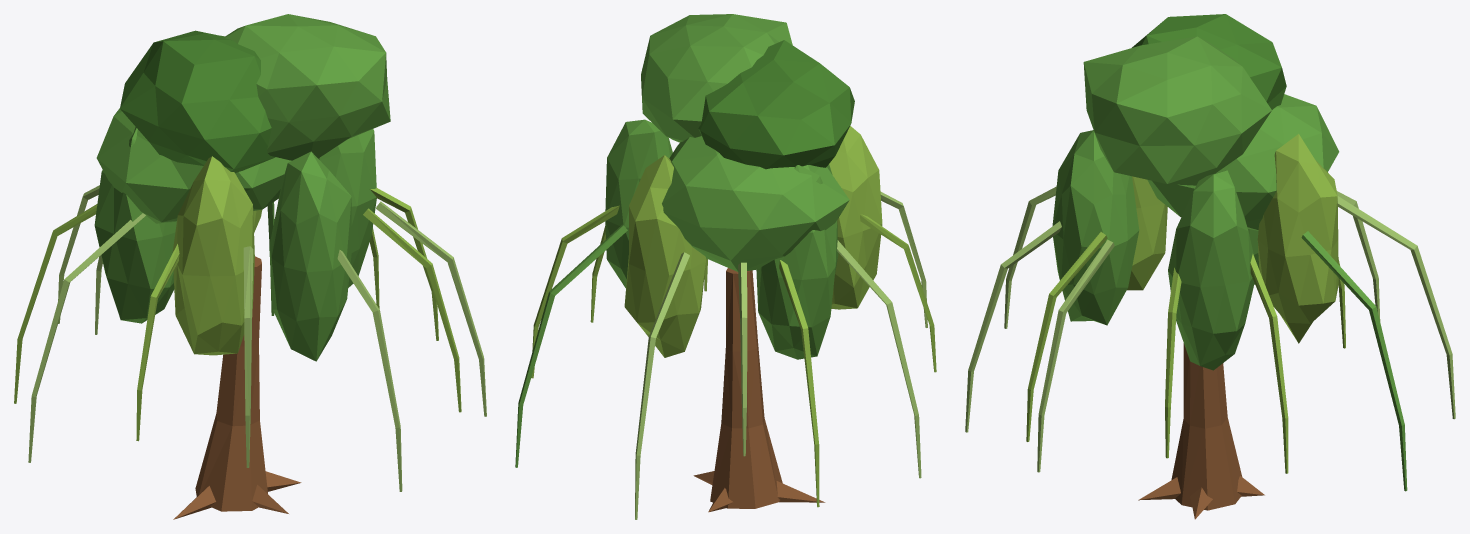
File: HS_LP_Tree_Willow_01.fbx
The picture shows the model from 3 angles, left to right: view 1: azimuth 30°, elevation 25°; view 2: azimuth 150°, elevation 25°; view 3: azimuth 270°, elevation 25°; orthographic projection. The views are drawn at different scales.
Parts seen in each view (by area): view 1: HS_LP_Tree_Willow_01; view 2: HS_LP_Tree_Willow_01; view 3: HS_LP_Tree_Willow_01.
Part boxes in pixels (<box>): HS_LP_Tree_Willow_01: <box>14,14,486,519</box>; HS_LP_Tree_Willow_01: <box>515,14,936,519</box>; HS_LP_Tree_Willow_01: <box>965,14,1455,519</box>.
Size of the model in its own units: 429 by 510 by 489.
